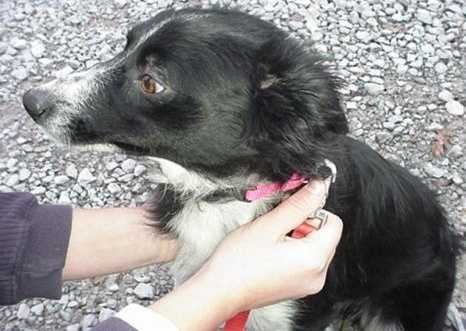dog: (43, 16, 450, 325)
